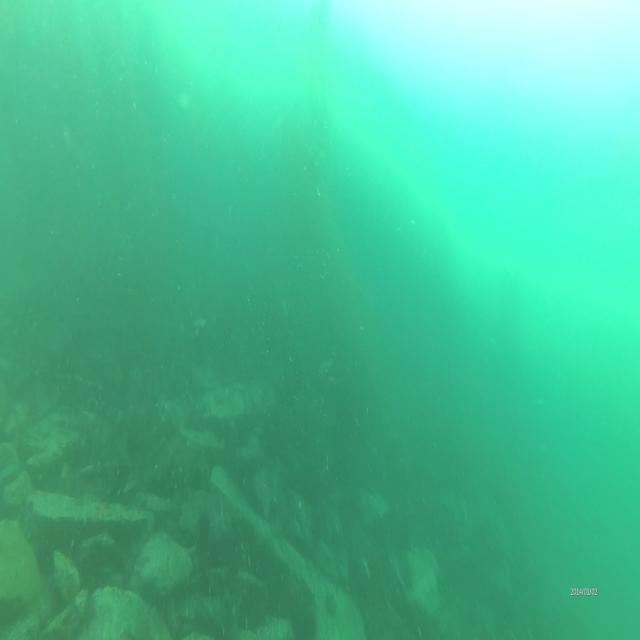echinus: (196, 511, 214, 540), (186, 458, 202, 488)
starfish: (94, 500, 110, 523)
